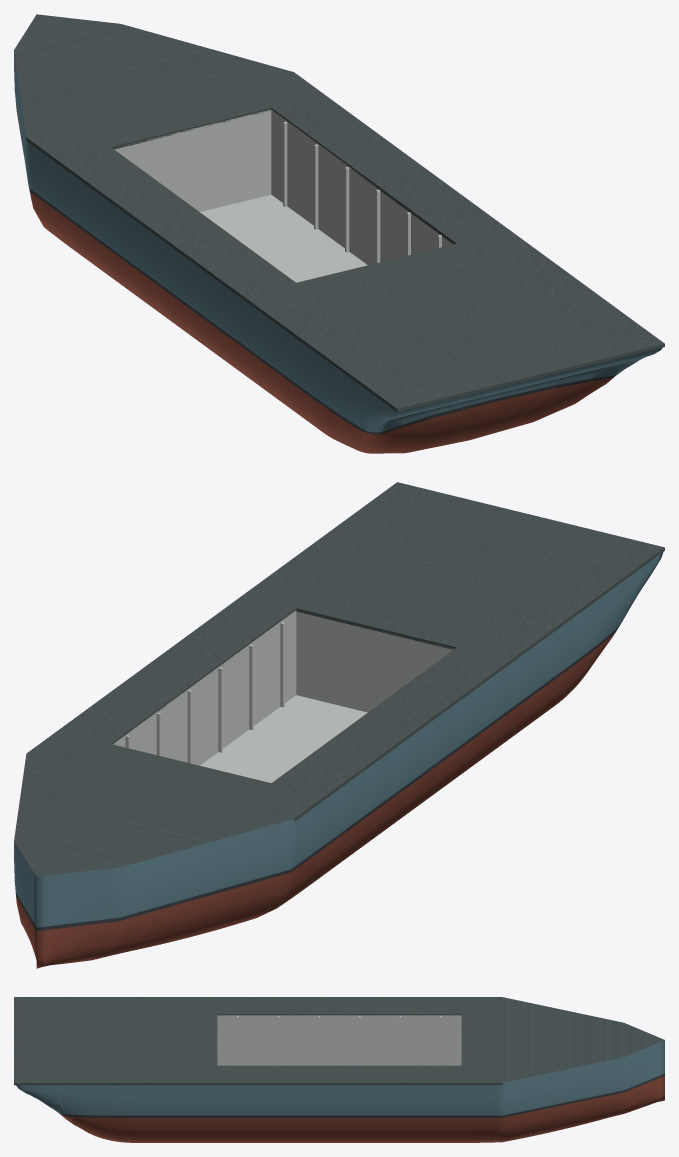
File: hull_32x10.glb
3 views of the same model, one above another, from view 1: azimuth 30°, elevation 25°; view 2: azimuth 150°, elevation 25°; view 3: azimuth 270°, elevation 25° (orthographic). The views are drawn at different scales.
Visible parts, largest first — view 1: Coastal formed shell, Aft working deck, Side working deck, Side working deck.001, Straight edged foredeck, Hold side lining.001, Hold end lining.001, Hold tank top, Fore working deck; view 2: Coastal formed shell, Aft working deck, Side working deck, Side working deck.001, Straight edged foredeck, Hold side lining.001, Hold end lining, Hold tank top, Fore working deck; view 3: Coastal formed shell, Hold side lining, Aft working deck, Side working deck.001, Side working deck, Straight edged foredeck, Fore working deck.
Boxes of the visible parts, left/top/right/bottom form: Coastal formed shell: left=14, top=51, right=662, bottom=453; Aft working deck: left=296, top=243, right=611, bottom=398; Side working deck: left=26, top=124, right=450, bottom=412; Side working deck.001: left=241, top=72, right=664, bottom=359; Straight edged foredeck: left=14, top=14, right=293, bottom=137; Hold side lining.001: left=271, top=109, right=452, bottom=265; Hold end lining.001: left=114, top=110, right=271, bottom=211; Hold tank top: left=200, top=194, right=367, bottom=282; Fore working deck: left=80, top=85, right=271, bottom=149; Coastal formed shell: left=14, top=552, right=663, bottom=968; Aft working deck: left=296, top=495, right=610, bottom=649; Side working deck: left=241, top=534, right=664, bottom=821; Side working deck.001: left=27, top=482, right=450, bottom=766; Straight edged foredeck: left=14, top=753, right=293, bottom=876; Hold side lining.001: left=113, top=610, right=296, bottom=765; Hold end lining: left=296, top=611, right=453, bottom=712; Hold tank top: left=200, top=695, right=367, bottom=782; Fore working deck: left=80, top=744, right=270, bottom=805; Coastal formed shell: left=16, top=1040, right=664, bottom=1142; Hold side lining: left=217, top=1015, right=461, bottom=1065; Aft working deck: left=14, top=1014, right=217, bottom=1065; Side working deck.001: left=14, top=1065, right=502, bottom=1085; Side working deck: left=14, top=997, right=502, bottom=1015; Straight edged foredeck: left=502, top=997, right=664, bottom=1082; Fore working deck: left=461, top=1014, right=502, bottom=1065.
Bounding box in the file's own units: 10 × 4.34 × 32.
Materials: 5 (1 with a texture image).
